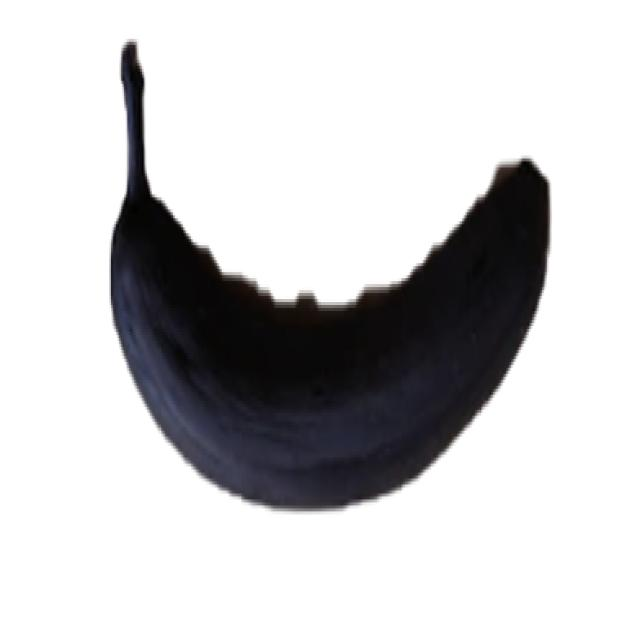rotten-banana: (108, 36, 552, 511)
